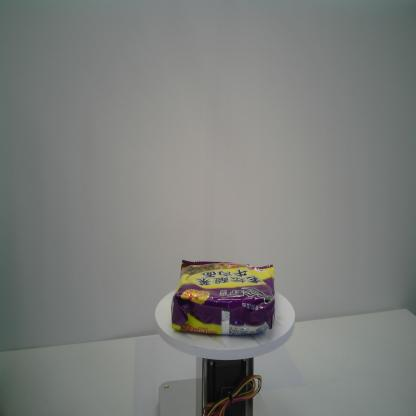Instant Noodles: (170, 258, 276, 336)
